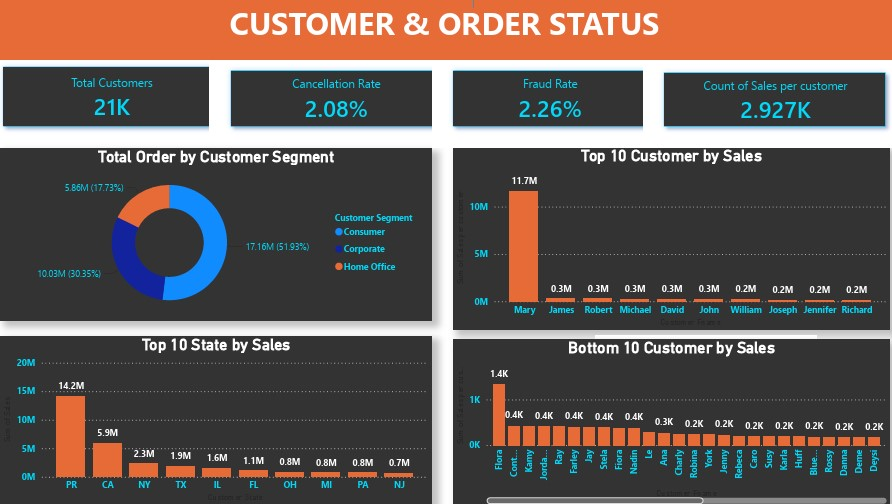

The dashboard page shown, as its layout file describes it:
{"tool":"powerbi","page":{"name":"Page 2","canvas":[1280,720],"ordinal":1},"visuals":[{"type":"cardVisual","fields":{"Data":["DataCoSupplyChainDataset.Total Customers"]},"box":[0,78.7,357.4,141],"z":0},{"type":"cardVisual","fields":{"Data":["DataCoSupplyChainDataset.Cancellation Rate"]},"box":[314.8,83.6,349.2,136.1],"z":1000},{"type":"donutChart","title":"Total Order by Customer Segment","fields":{"Category":["DataCoSupplyChainDataset.Customer Segment"],"Y":["Sum(DataCoSupplyChainDataset.Order Item Total)"]},"box":[24.6,219.7,598.4,239.3],"z":2000},{"type":"columnChart","title":"Top 10 Customer by Sales","fields":{"Category":["DataCoSupplyChainDataset.Customer Fname"],"Y":["Sum(DataCoSupplyChainDataset.Sales per customer)"]},"box":[652.5,218,604.9,254.1],"z":3000},{"type":"cardVisual","fields":{"Data":["DataCoSupplyChainDataset.Avg Delivery Delay"]},"box":[849.2,480.3,306.6,132.8],"z":4000},{"type":"cardVisual","fields":{"Data":["DataCoSupplyChainDataset.Fraud Rate"]},"box":[623,83.6,324.6,136.1],"z":5000},{"type":"cardVisual","fields":{"Data":["Count(DataCoSupplyChainDataset.Sales per customer)"]},"box":[914.8,86.9,365.6,132.8],"z":6000},{"type":"textbox","box":[0,13.1,1280.3,85.2],"z":7000},{"type":"columnChart","title":"Bottom 10 Customer by Sales","fields":{"Category":["DataCoSupplyChainDataset.Customer Fname"],"Y":["Sum(DataCoSupplyChainDataset.Sales per customer)"]},"box":[652.5,485.2,604.9,232.8],"z":8000},{"type":"columnChart","title":"Top 10 State by Sales","fields":{"Category":["DataCoSupplyChainDataset.Customer State"],"Y":["Sum(DataCoSupplyChainDataset.Sales)"]},"box":[24.6,480.3,598.4,234.4],"z":9000}]}

Visuals, with their boxes in screenshot pixels (x1, y1, x2, y2), scaled from the page's 1280x720 canvas onto the 892x504 screenshot:
cardVisual - DataCoSupplyChainDataset.Total Customers: l=0, t=55, r=249, b=154
cardVisual - DataCoSupplyChainDataset.Cancellation Rate: l=219, t=59, r=463, b=154
"Total Order by Customer Segment" donutChart: l=17, t=154, r=434, b=321
"Top 10 Customer by Sales" columnChart: l=455, t=153, r=876, b=330
cardVisual - DataCoSupplyChainDataset.Avg Delivery Delay: l=592, t=336, r=805, b=429
cardVisual - DataCoSupplyChainDataset.Fraud Rate: l=434, t=59, r=660, b=154
cardVisual - Count(DataCoSupplyChainDataset.Sales per customer): l=638, t=61, r=891, b=154
textbox: l=0, t=9, r=891, b=69
"Bottom 10 Customer by Sales" columnChart: l=455, t=340, r=876, b=503
"Top 10 State by Sales" columnChart: l=17, t=336, r=434, b=500
